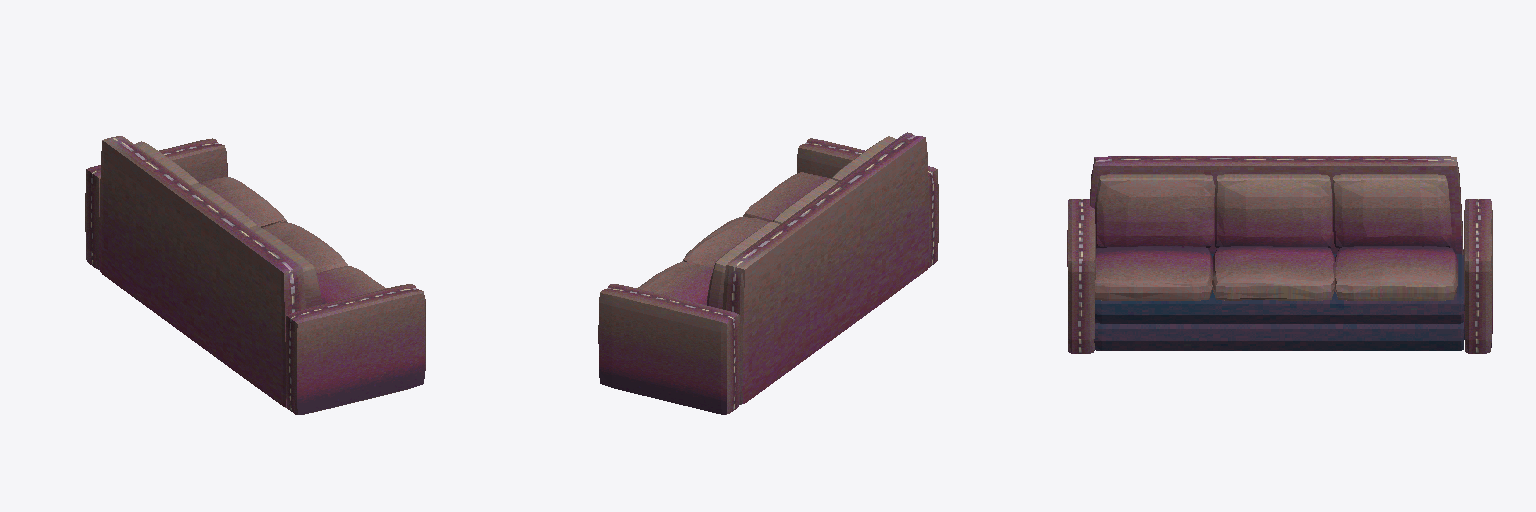
The picture shows the model from 3 angles: view 1: azimuth 30°, elevation 25°; view 2: azimuth 150°, elevation 25°; view 3: azimuth 270°, elevation 25°; orthographic projection.
Visible parts, largest first — view 1: Cube.041; view 2: Cube.041; view 3: Cube.041.
Boxes of the visible parts, box(x1,y1,x2,y2) form: Cube.041: box(85, 136, 425, 414); Cube.041: box(598, 132, 938, 414); Cube.041: box(1067, 156, 1492, 353).
Bounding box in the file's own units: 5.43 × 5.44 × 15.1.
1 materials, 1 textured.